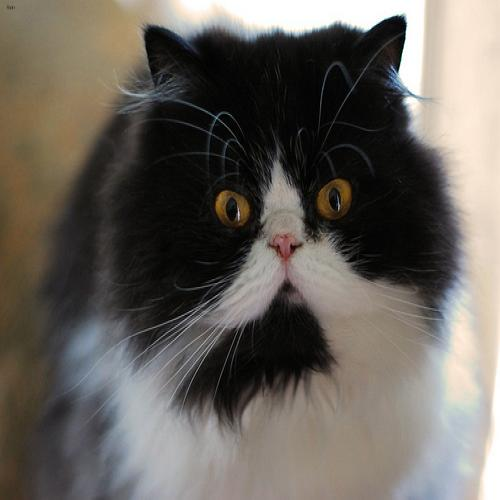persian: (128, 9, 431, 390)
